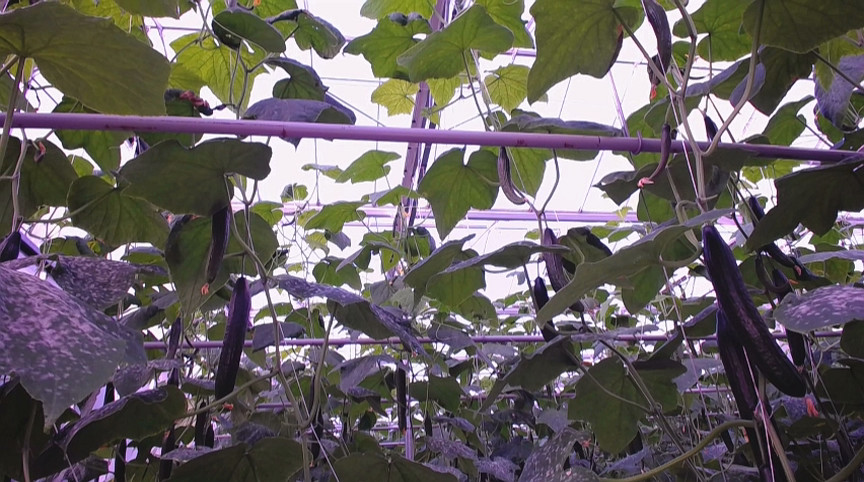cucumber: (689, 223, 808, 399), (709, 308, 786, 482), (211, 276, 252, 401), (540, 229, 585, 314), (770, 267, 807, 367), (641, 1, 672, 87), (204, 203, 231, 286), (493, 146, 527, 206), (529, 278, 559, 341)
